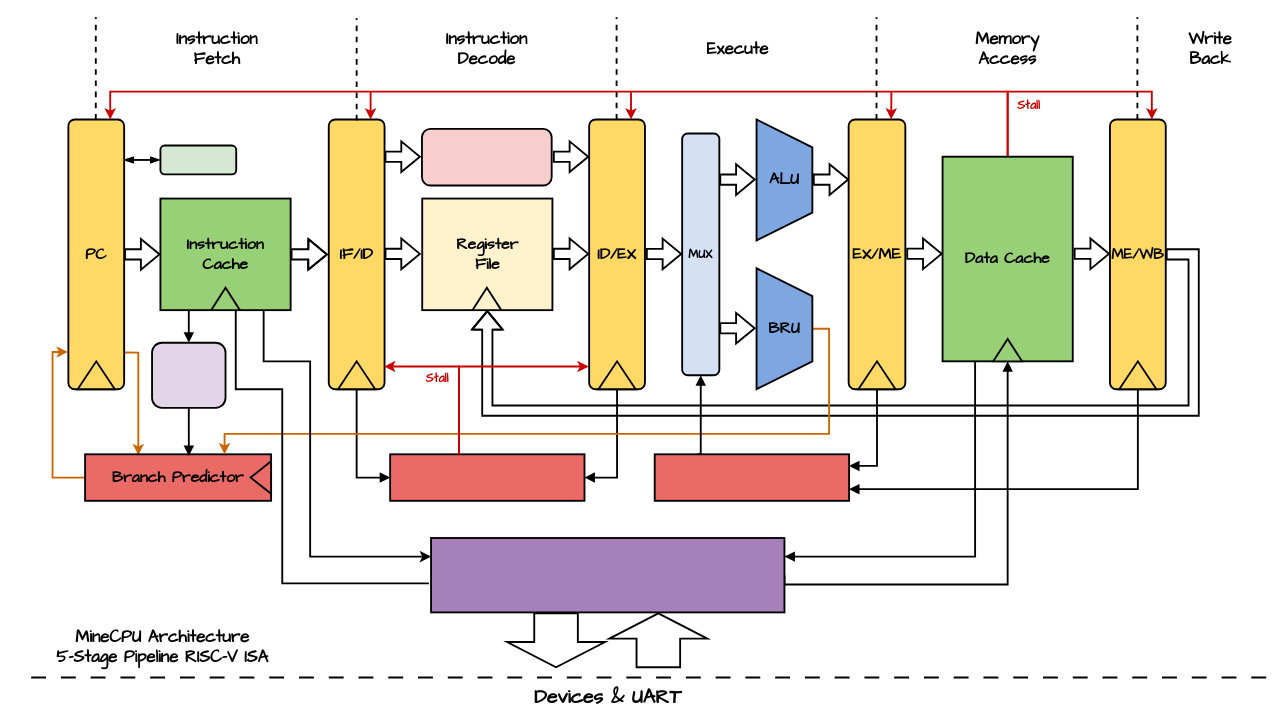
Some shapes in this 1285 by 728 pixel diagram are drawn without their labels. The shapes that lost their labels are listed below. From the top down, each one's centre as x and y in pixels, then its label:
At (198,159): "epc".
At (486,156): "Control Immediate Gen".
At (188,374): "Pre Decoder".
At (487,477): "Hazard Detection".
At (751,477): "Forwarding".
At (607,575): "Memory".
